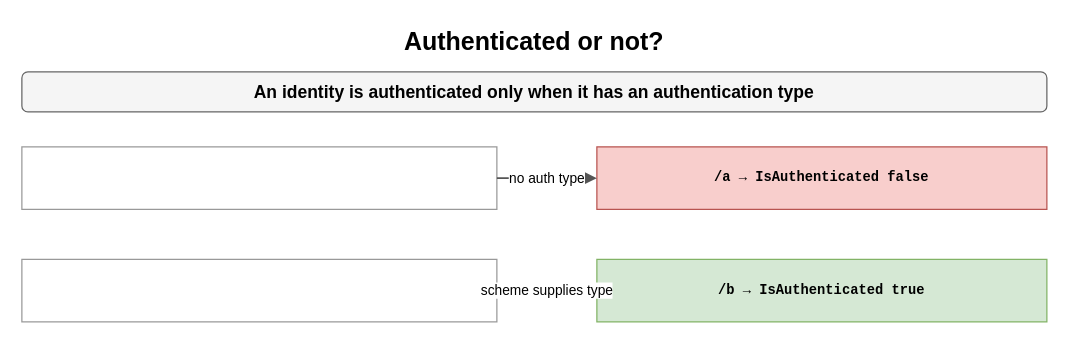
Image size: 1069x344. Some labels were removed from this diagram. Here are the shapes that lost their labels. From the top down, the centre of each, then its label:
(x=259, y=177): new ClaimsIdentity([Name = ada])
(x=259, y=290): new ClaimsIdentity([Name = ada], "Cookies")
